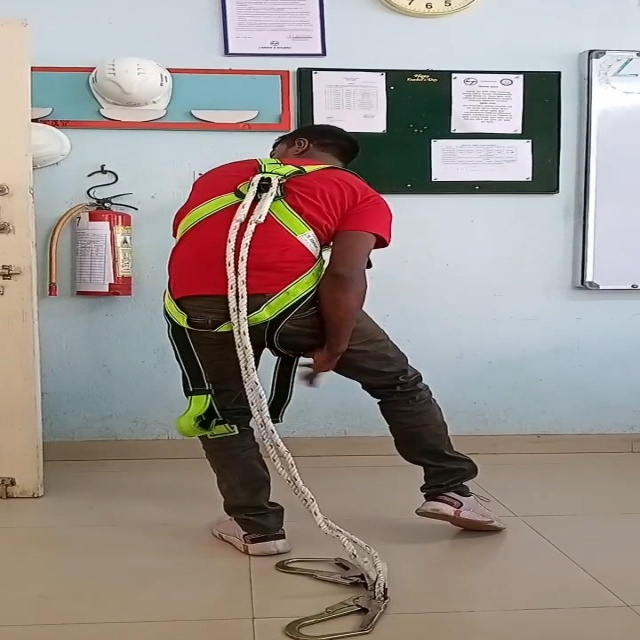Arnes_seguridad: (148, 151, 371, 437)
